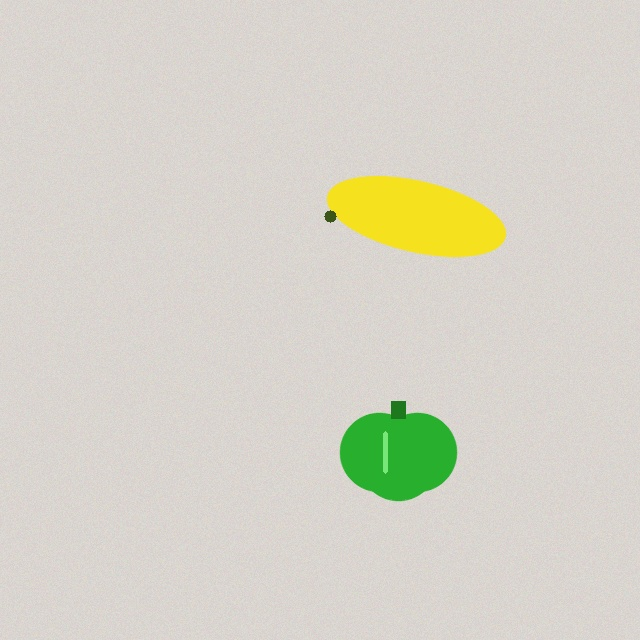Fresh banana: (321, 173, 511, 259)
Fresh bell pepper: (340, 401, 456, 500)
